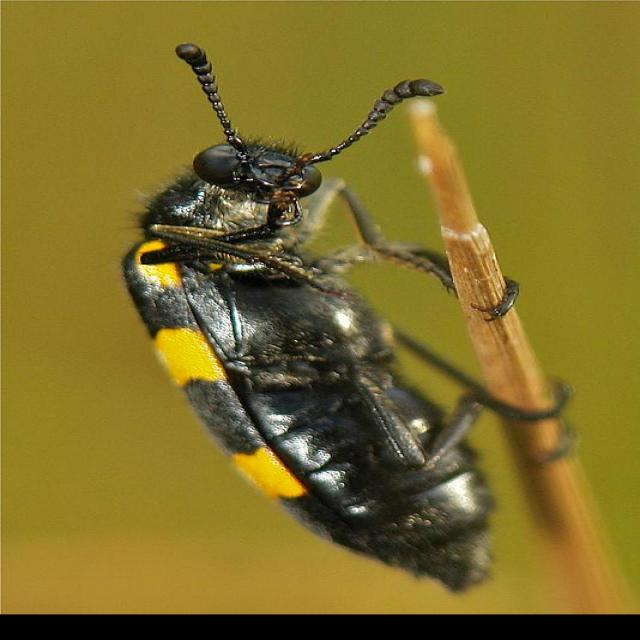BlisterBeetle-Adult-: (112, 42, 544, 593)
